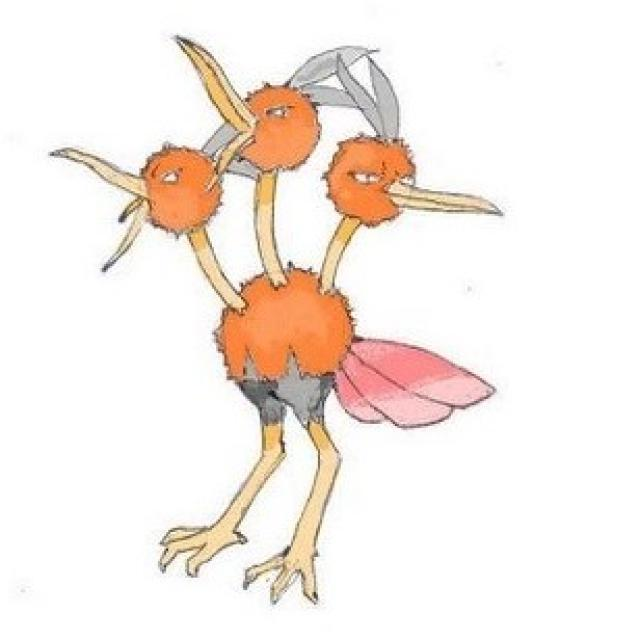Dodrio: (113, 76, 449, 573)
